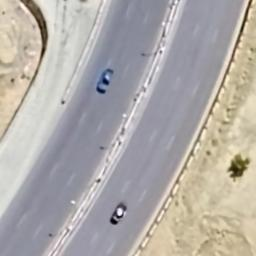sedan: (94, 66, 116, 96), (107, 199, 130, 226)
